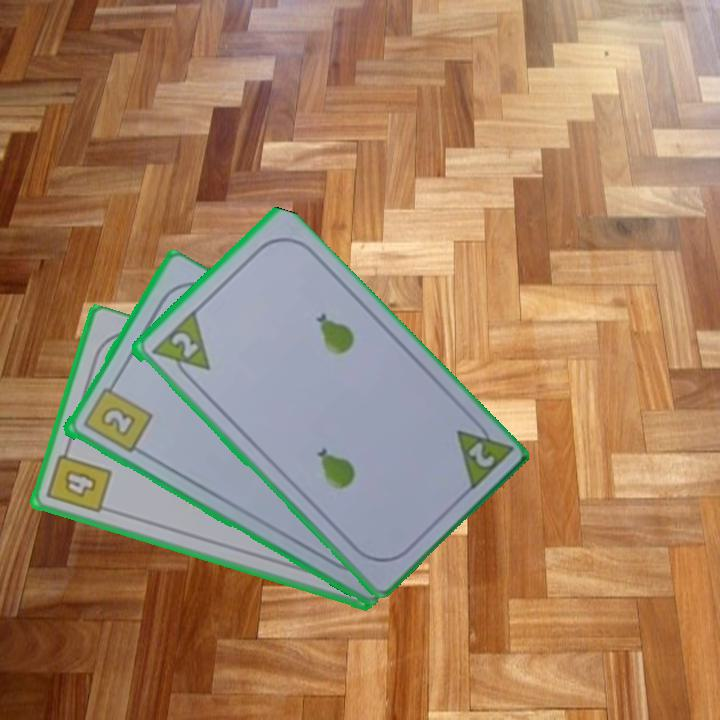2b: (79, 377, 154, 456)
2p: (146, 308, 213, 387), (464, 438, 497, 471)
4b: (43, 442, 115, 516)
